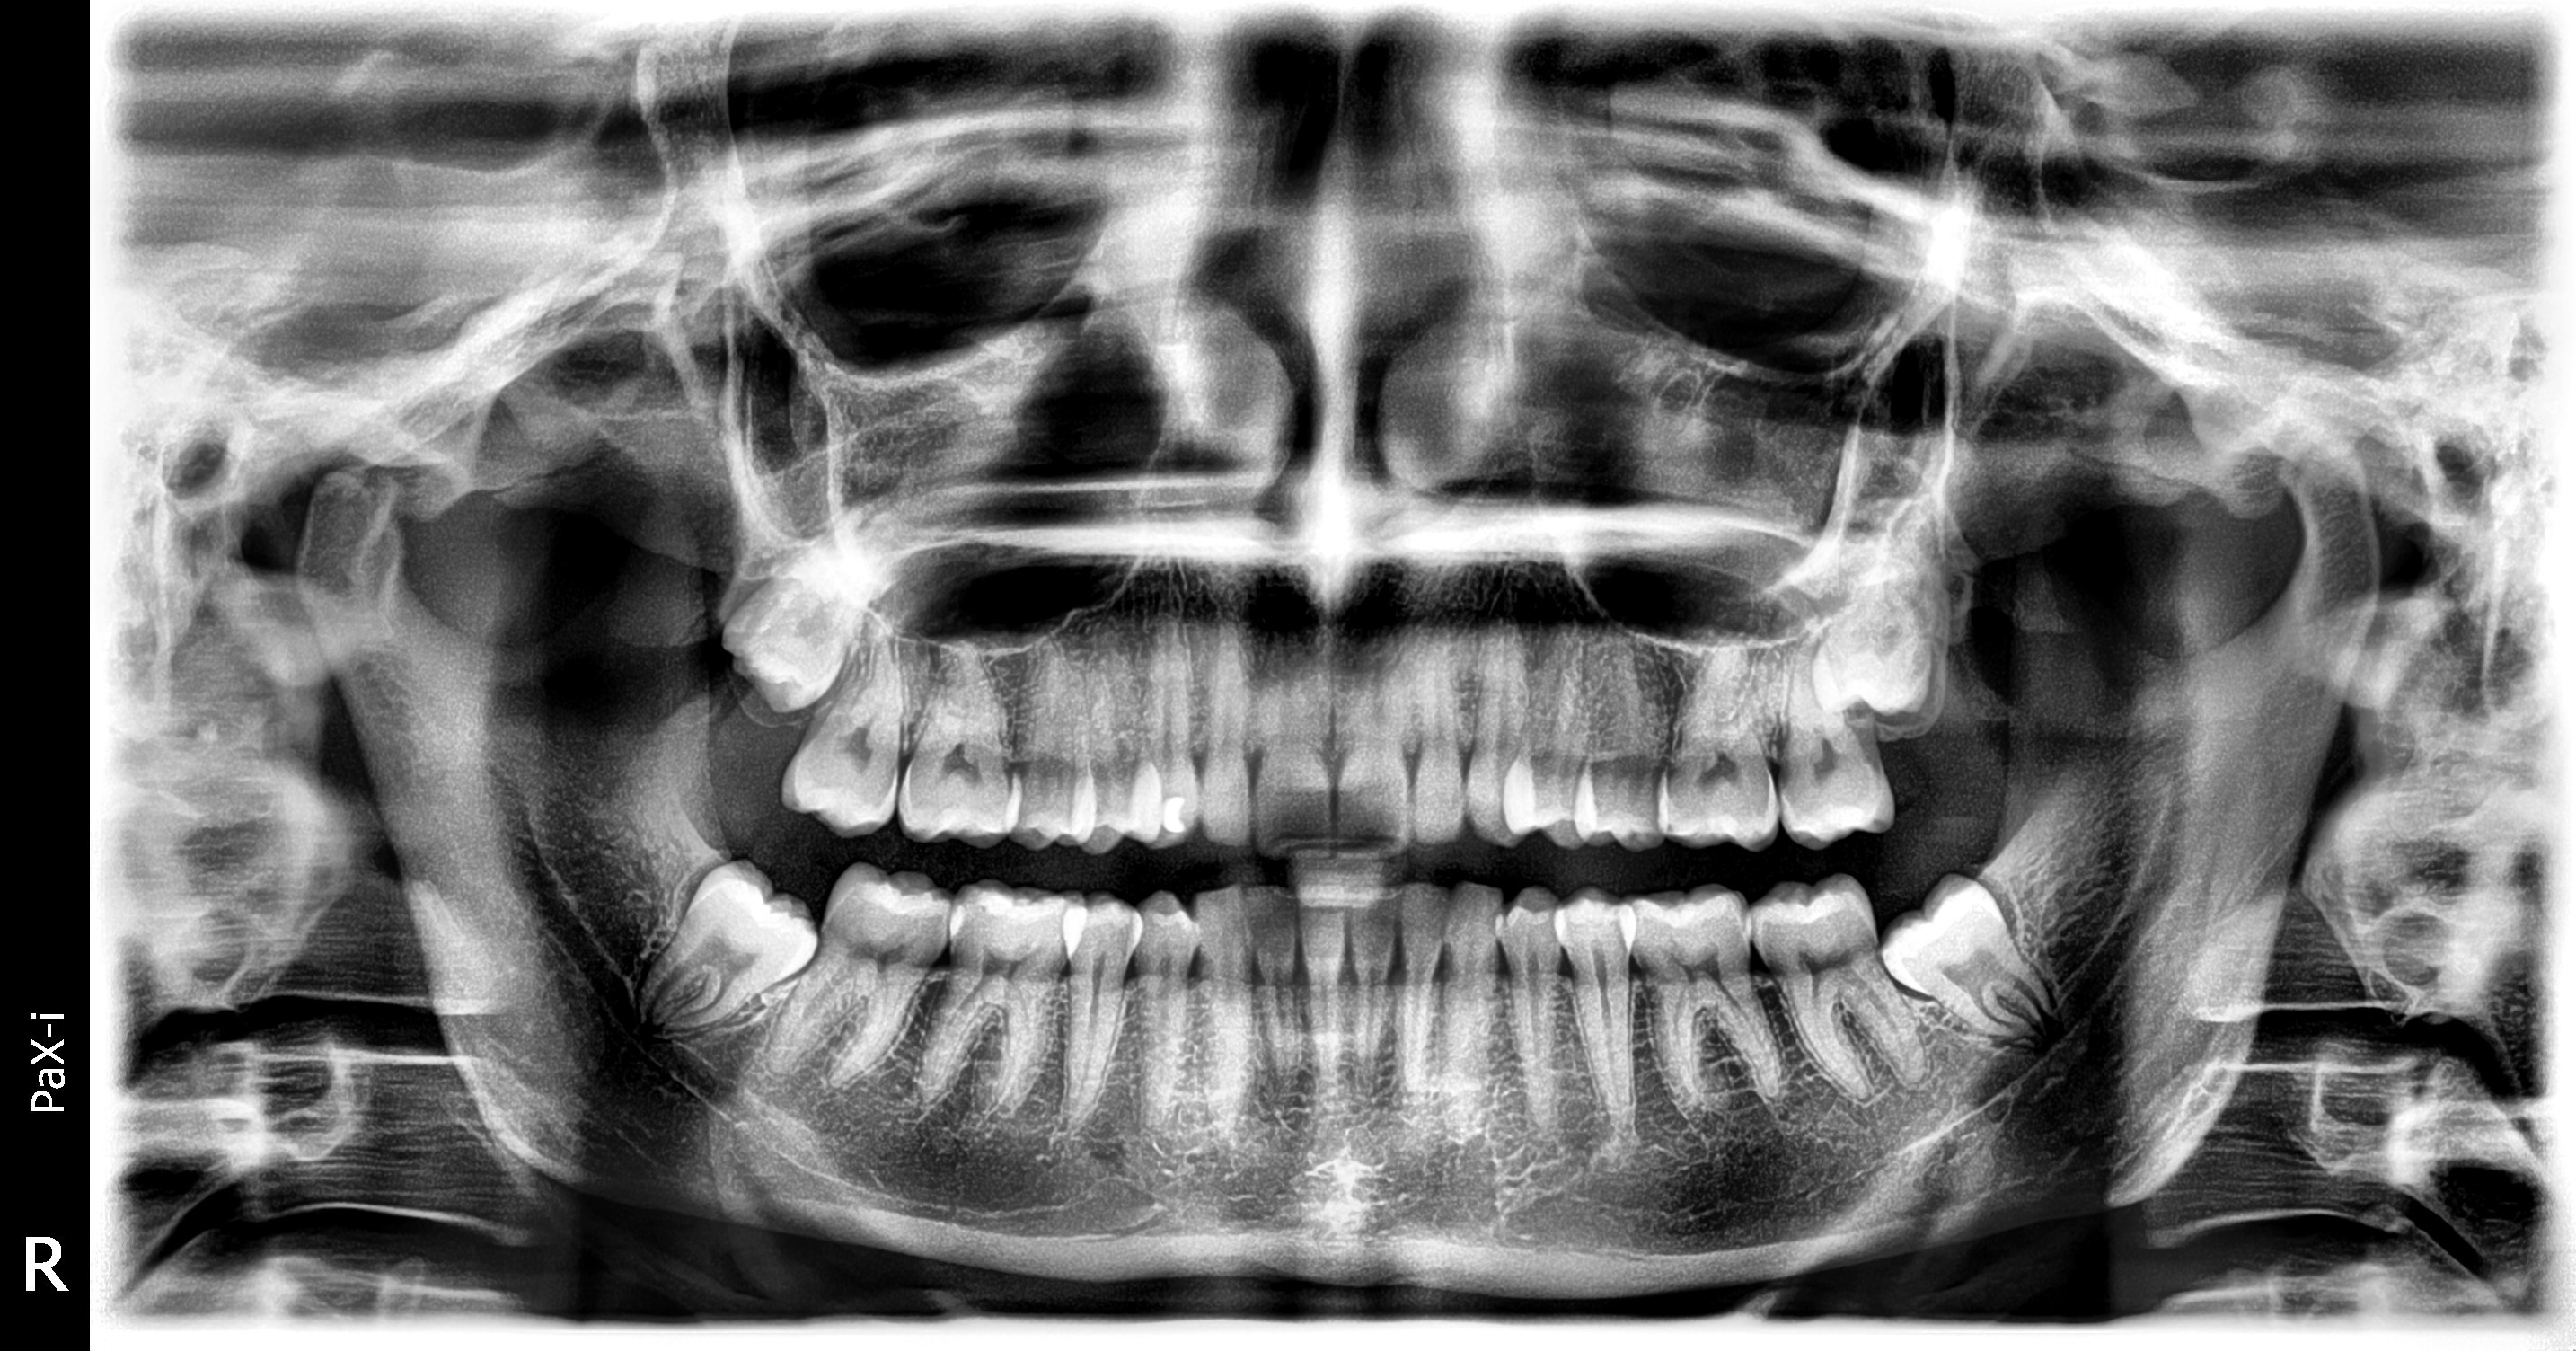IMT: (641, 859, 819, 1031)
OBT: (1162, 796, 1184, 833)
